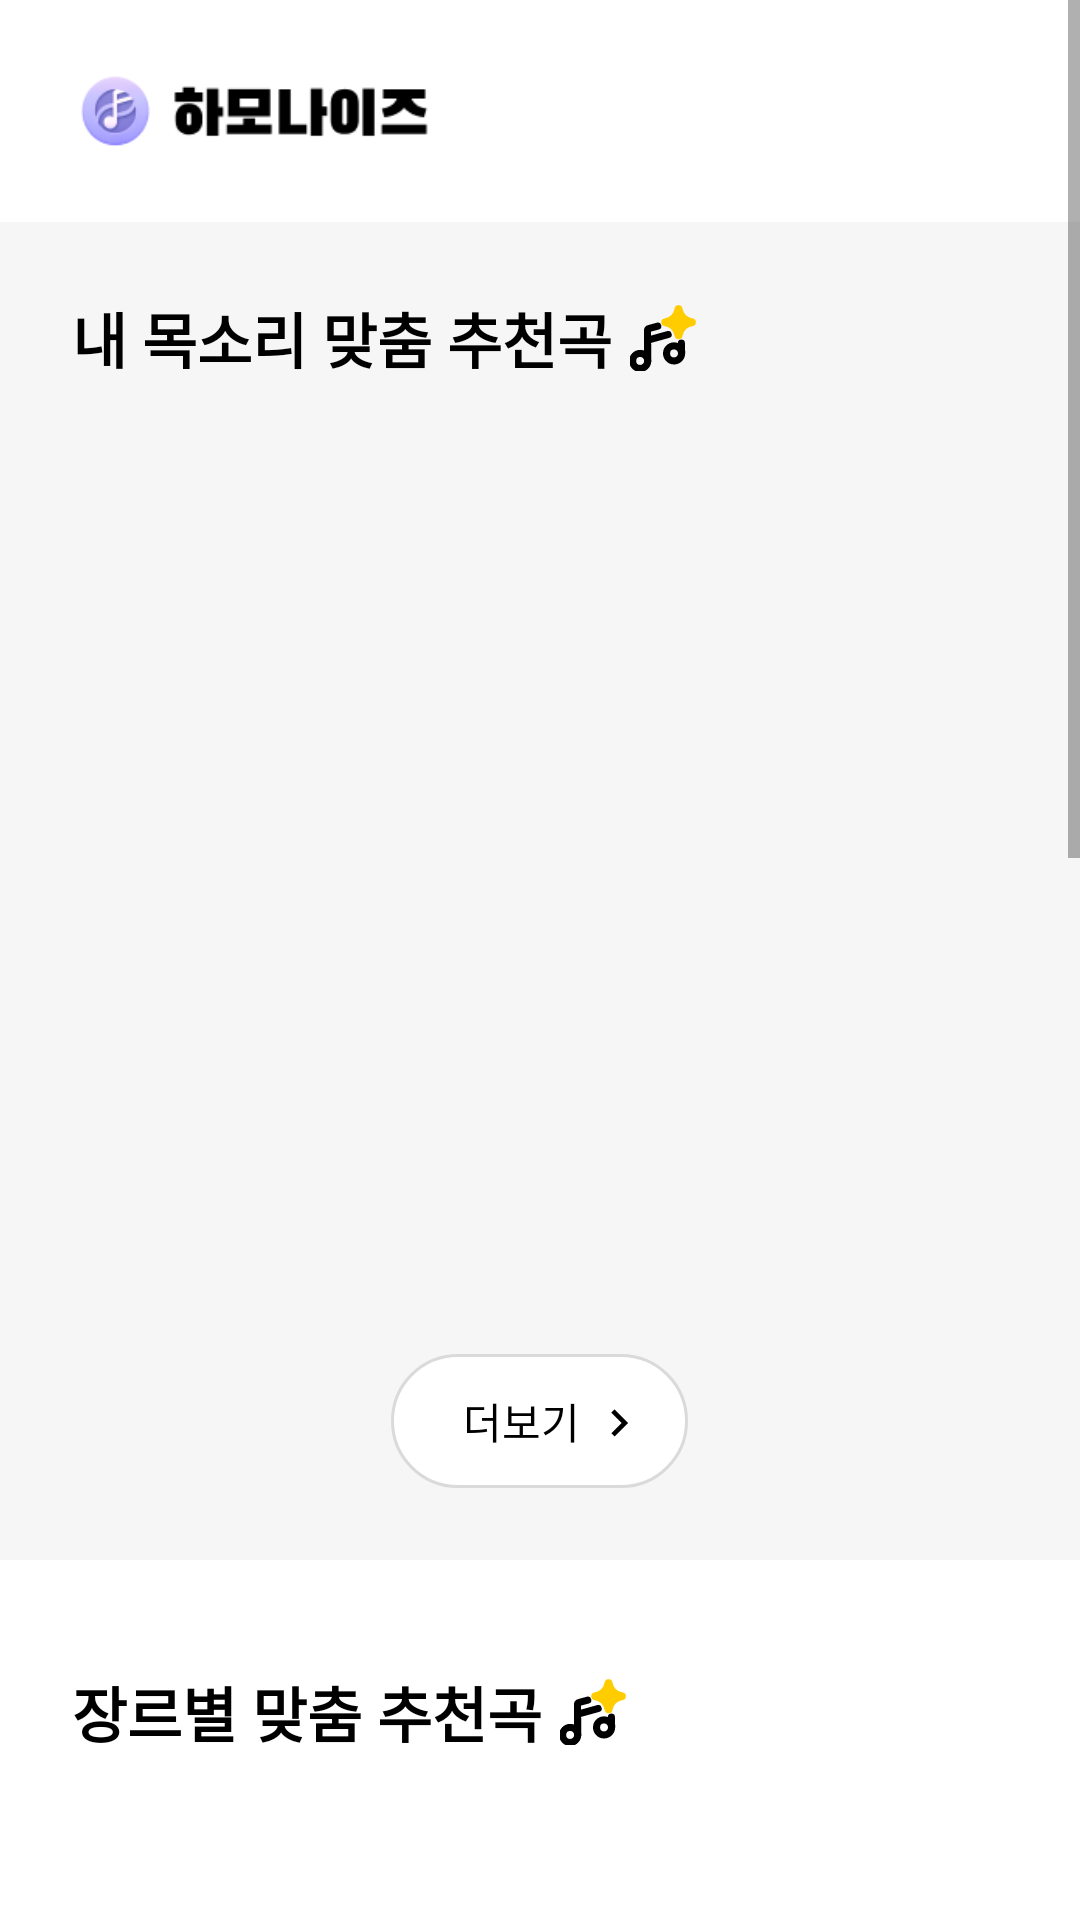

Where icons sit on this 1080x1920 app screen, as (x1, y1, x2, y2):
ai music: (630, 305, 696, 371), (560, 1679, 626, 1745)
arrow right: (611, 1409, 628, 1437)
